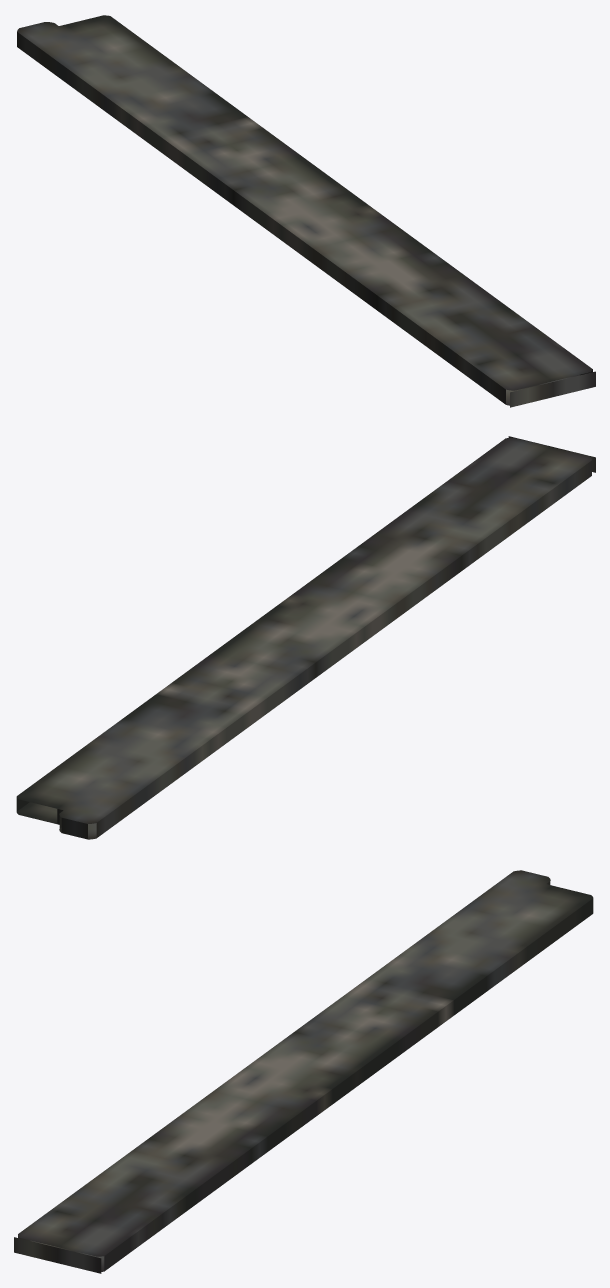
The model's file is SM_EC_Fence_Part_26.fbx.
3 views of the same model, one above another, from view 1: azimuth 30°, elevation 25°; view 2: azimuth 150°, elevation 25°; view 3: azimuth 330°, elevation 25° (orthographic).
Parts seen in each view (by area): view 1: SM_EC_Fence_Part_26; view 2: SM_EC_Fence_Part_26; view 3: SM_EC_Fence_Part_26.
Boxes of the visible parts, <box> form: SM_EC_Fence_Part_26: <box>17,15,595,407</box>; SM_EC_Fence_Part_26: <box>16,436,595,839</box>; SM_EC_Fence_Part_26: <box>14,870,593,1273</box>.
Size of the model in its own units: 0.1068 by 1.07 by 0.0181.
